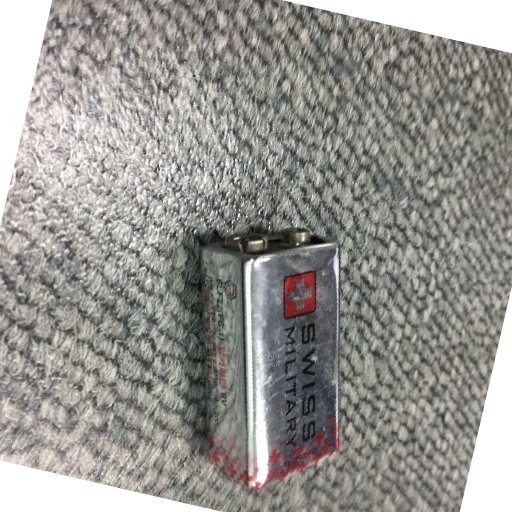Battery_3: (186, 218, 358, 496)
